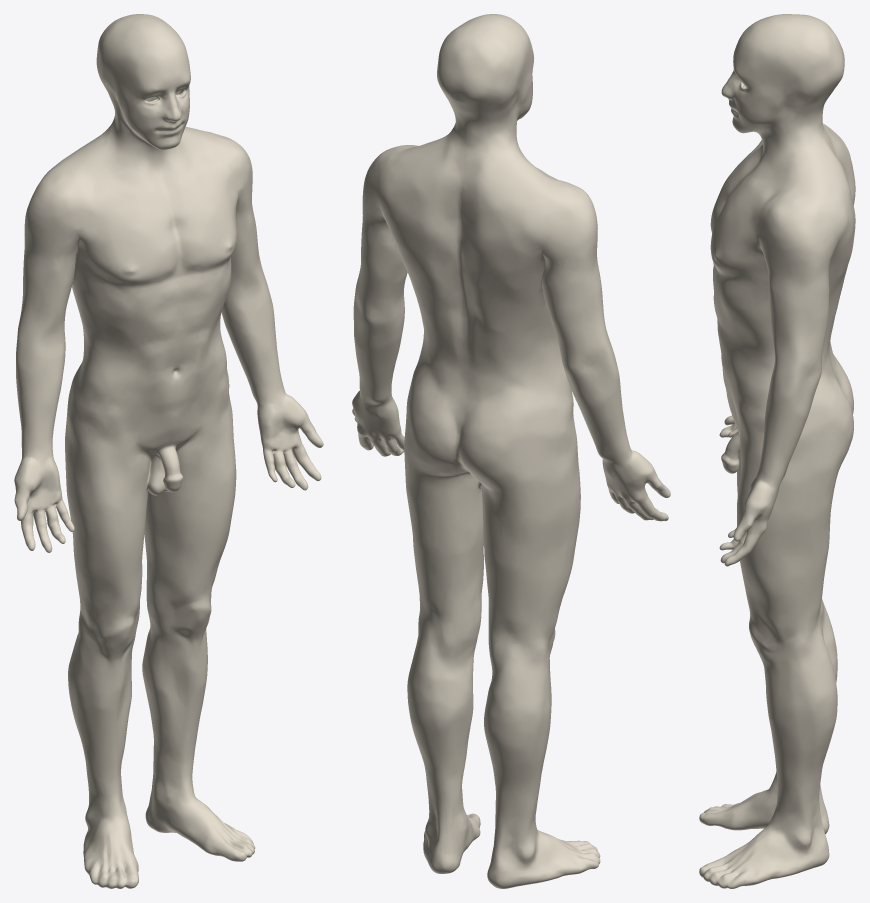
Rendered from skin_body.glb.
3 renders of one model, left to right at view 1: azimuth 30°, elevation 25°; view 2: azimuth 150°, elevation 25°; view 3: azimuth 270°, elevation 25°, orthographic. The views are drawn at different scales.
Parts seen in each view (by area): view 1: skin; view 2: skin; view 3: skin.
Part boxes in pixels (bbox=[...]): skin: bbox=[14, 14, 323, 888]; skin: bbox=[352, 14, 670, 888]; skin: bbox=[699, 14, 855, 888].
Size of the model in its own units: 0.6669 by 1.72 by 0.292.
